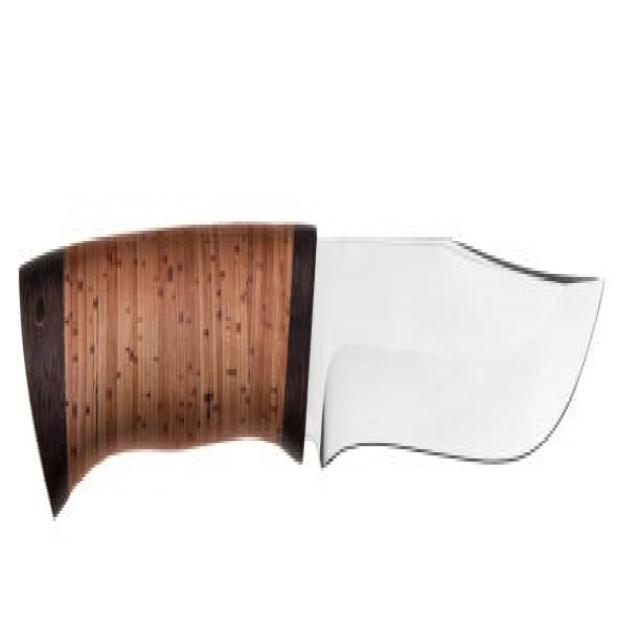knife: (17, 187, 613, 560)
